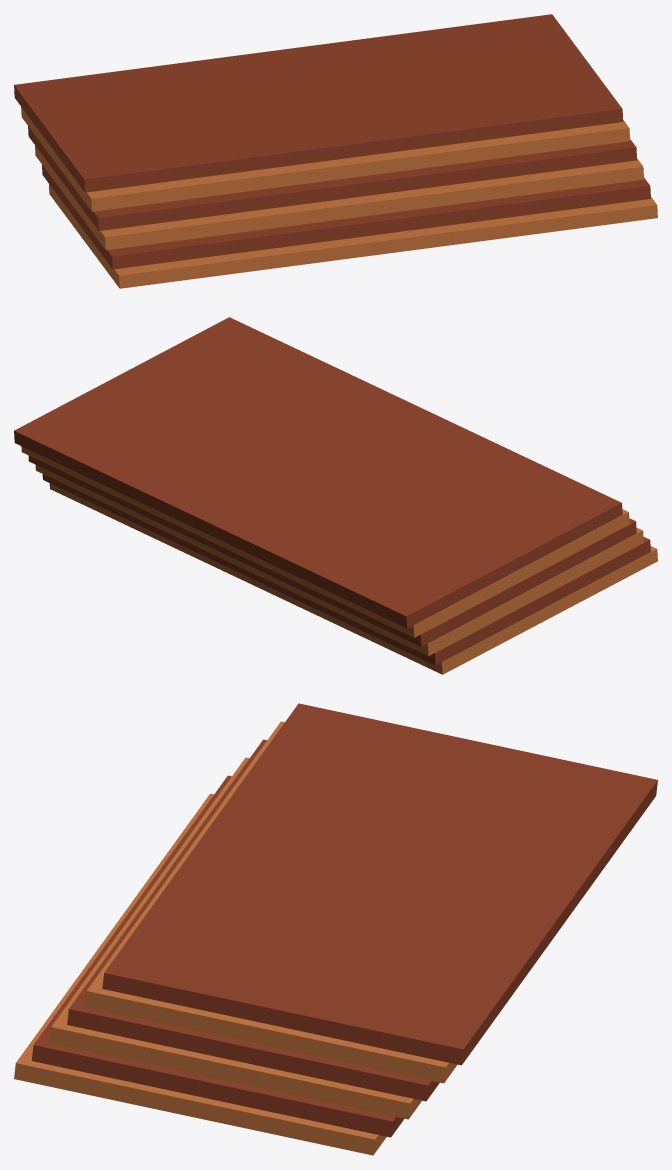
File: copper-sheets.glb
3 views of the same model, one above another, from view 1: azimuth 30°, elevation 25°; view 2: azimuth 150°, elevation 25°; view 3: azimuth 270°, elevation 25° (orthographic). The views are drawn at different scales.
Visible parts, largest first — view 1: copper-sheets; view 2: copper-sheets; view 3: copper-sheets.
Boxes of the visible parts, x1,y1,x2,y2 form: copper-sheets: [14, 14, 657, 288]; copper-sheets: [14, 317, 657, 674]; copper-sheets: [14, 703, 657, 1155].
Size of the model in its own units: 3.55 by 0.781 by 2.91.
